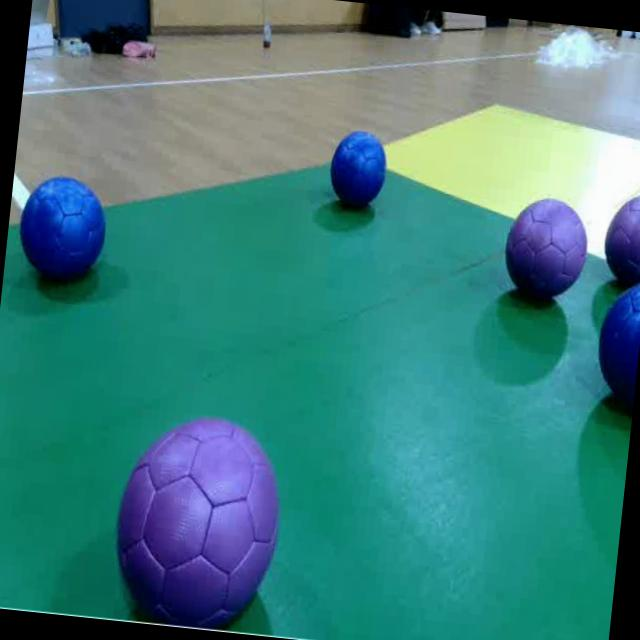blue_ball: (5, 160, 124, 305), (312, 114, 399, 227), (586, 272, 640, 428)
purple_ball: (88, 393, 298, 637), (492, 180, 598, 316), (601, 176, 640, 272)
